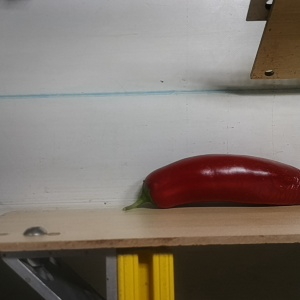Cut Point: (134, 171, 171, 208)
